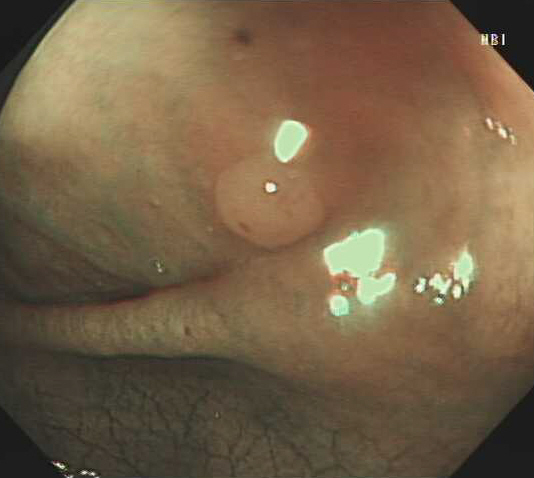adenoma: (209, 150, 329, 252)
